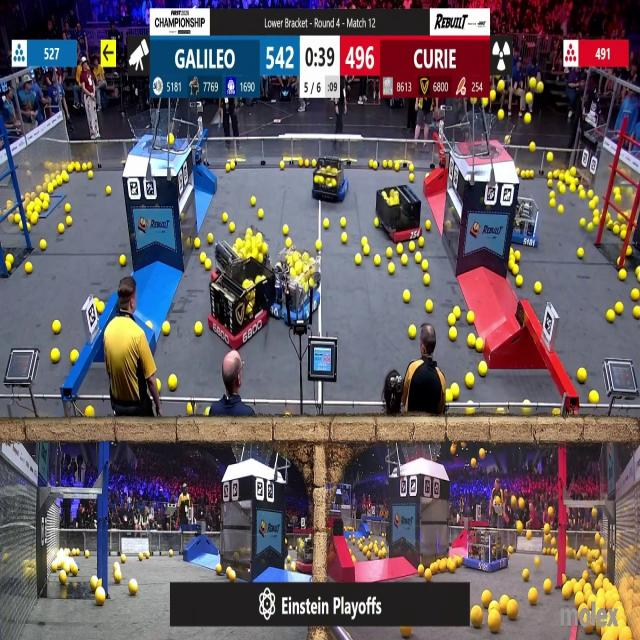ball_airborne: (524, 112, 532, 124), (536, 80, 543, 92), (517, 522, 524, 532), (498, 79, 504, 90), (526, 93, 532, 104), (480, 449, 486, 460), (451, 445, 457, 456), (519, 498, 525, 509), (483, 98, 490, 107), (530, 78, 536, 88), (530, 142, 536, 152), (546, 152, 552, 162), (491, 91, 496, 102), (498, 110, 504, 119), (169, 136, 174, 146), (512, 496, 517, 506), (547, 505, 552, 515), (543, 524, 548, 533), (471, 458, 475, 468), (504, 136, 509, 144)
ball_ground: (469, 606, 483, 627), (489, 610, 501, 634), (508, 600, 520, 619), (528, 589, 538, 605), (96, 589, 106, 605), (130, 581, 139, 596), (400, 626, 410, 639), (483, 591, 491, 607), (479, 361, 488, 375), (169, 376, 177, 391), (577, 367, 585, 382), (452, 384, 460, 399), (466, 374, 474, 388), (50, 349, 58, 363), (54, 320, 62, 334), (563, 586, 571, 600), (574, 594, 582, 608), (590, 391, 599, 403), (466, 312, 474, 325), (402, 289, 410, 302), (70, 350, 78, 363), (226, 568, 234, 581), (446, 562, 454, 575), (410, 324, 417, 338), (186, 404, 193, 418), (543, 581, 550, 595), (606, 310, 614, 322), (466, 336, 474, 348), (446, 389, 454, 401), (499, 598, 507, 610), (164, 321, 171, 334), (450, 327, 457, 340), (475, 339, 482, 352), (61, 570, 68, 583), (424, 568, 431, 581), (26, 264, 34, 275), (449, 315, 457, 326), (426, 301, 433, 313), (620, 270, 627, 282), (617, 304, 624, 316), (523, 568, 530, 580), (534, 282, 541, 294), (194, 322, 201, 334), (454, 308, 461, 320), (92, 576, 99, 588), (87, 408, 95, 418), (155, 379, 161, 392), (517, 276, 524, 287), (355, 253, 362, 264), (632, 289, 639, 300), (388, 264, 395, 275), (114, 570, 121, 581), (513, 265, 520, 276), (342, 234, 349, 245), (98, 303, 105, 314), (376, 254, 382, 266), (634, 306, 640, 318), (193, 239, 200, 249), (341, 218, 348, 228), (322, 218, 329, 228), (415, 252, 422, 262), (5, 264, 12, 274), (71, 565, 78, 575), (507, 264, 514, 274), (119, 254, 125, 265), (208, 234, 214, 245), (621, 230, 627, 241), (422, 262, 428, 273), (466, 409, 473, 418), (42, 201, 49, 210), (577, 248, 583, 258), (283, 224, 289, 234), (316, 240, 322, 250), (66, 216, 72, 226), (40, 240, 46, 250), (387, 248, 393, 258), (221, 212, 227, 222), (418, 566, 424, 576), (410, 242, 416, 252), (205, 262, 211, 272), (32, 214, 38, 224), (516, 250, 522, 260), (396, 244, 402, 254), (560, 184, 566, 194), (98, 576, 104, 586), (375, 218, 381, 228), (615, 224, 621, 234), (523, 410, 531, 417), (553, 410, 560, 418), (550, 200, 557, 208), (379, 552, 386, 560), (424, 275, 429, 286), (363, 246, 369, 255), (60, 223, 66, 232), (419, 238, 425, 247), (627, 247, 633, 256), (558, 205, 564, 214), (594, 216, 600, 225), (65, 204, 71, 213), (588, 189, 594, 198), (286, 239, 292, 248), (231, 222, 237, 231), (6, 254, 12, 263), (64, 174, 70, 183), (589, 201, 595, 210), (229, 161, 235, 170), (388, 161, 394, 170), (81, 164, 87, 173), (570, 168, 576, 177), (258, 209, 263, 219), (401, 255, 406, 265), (216, 564, 221, 574), (61, 593, 68, 600), (106, 186, 112, 194), (578, 190, 584, 198), (361, 238, 367, 246), (588, 222, 594, 230), (546, 180, 552, 188), (139, 554, 145, 562), (394, 164, 400, 172), (205, 410, 211, 418), (75, 165, 81, 173), (520, 170, 526, 178), (554, 172, 560, 180), (579, 218, 584, 227), (570, 183, 575, 192), (201, 253, 206, 262), (14, 214, 19, 223), (68, 163, 73, 172), (551, 191, 557, 198), (251, 198, 256, 206), (120, 556, 125, 564), (534, 558, 539, 566), (371, 160, 376, 168), (529, 170, 534, 178), (547, 172, 552, 180), (577, 183, 582, 191), (426, 220, 430, 229), (618, 257, 622, 266), (636, 268, 640, 277), (524, 398, 530, 404), (48, 184, 52, 193), (410, 175, 415, 182), (147, 321, 152, 328), (594, 209, 599, 216), (410, 166, 415, 173), (84, 553, 89, 560), (280, 163, 284, 171), (90, 172, 94, 180), (113, 562, 117, 570), (225, 165, 229, 173), (89, 163, 93, 171), (562, 574, 566, 582), (28, 222, 32, 230), (306, 161, 310, 168), (298, 161, 302, 168), (18, 222, 22, 229), (146, 553, 150, 560), (312, 161, 316, 168), (507, 545, 511, 552), (170, 551, 173, 558)
goal: (460, 118, 516, 159), (129, 116, 188, 151)
robot_blue: (266, 246, 322, 324), (466, 528, 510, 572), (312, 157, 348, 202), (510, 198, 542, 247)
robot_red: (207, 270, 267, 348), (376, 186, 423, 243)
